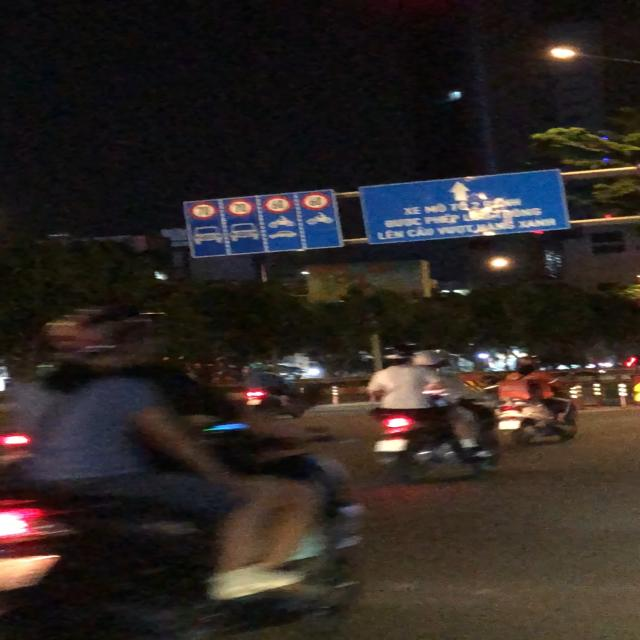Bien bao toc do toi da cho phep: (298, 192, 332, 212), (224, 198, 254, 218), (262, 196, 291, 214), (189, 202, 217, 220)
